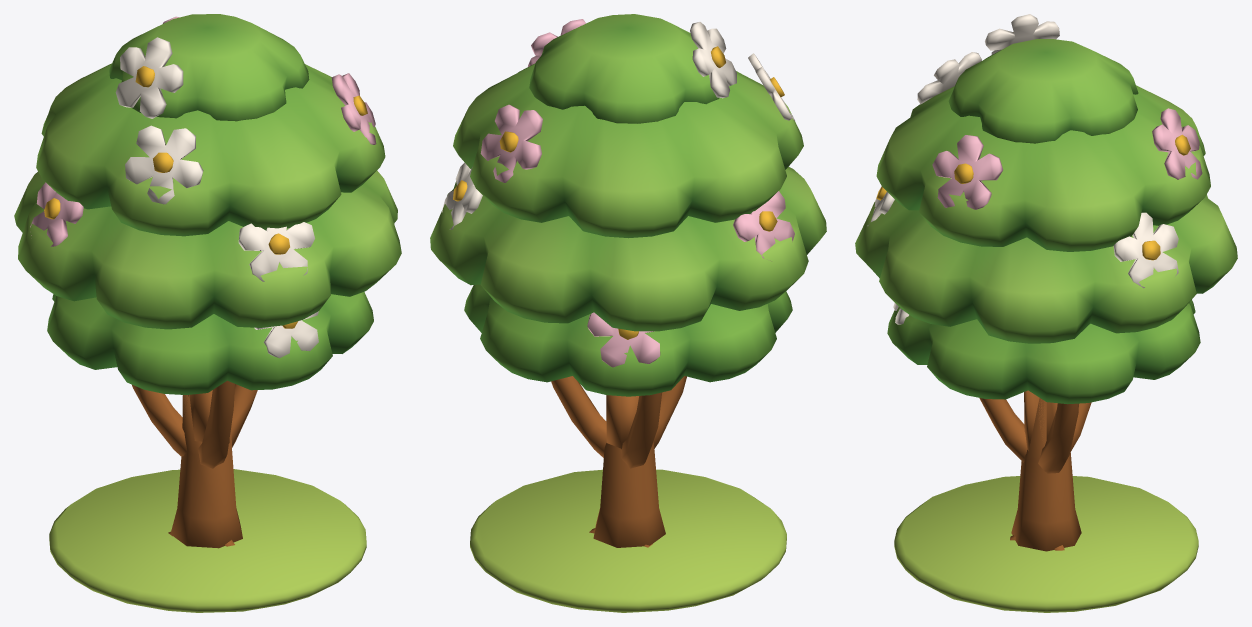
The model's file is bush-flowering.glb.
The picture shows the model from 3 angles, left to right: view 1: azimuth 30°, elevation 25°; view 2: azimuth 150°, elevation 25°; view 3: azimuth 270°, elevation 25°; orthographic projection. The views are drawn at different scales.
Visible parts, largest first — view 1: body, base_disc; view 2: body, base_disc; view 3: body, base_disc.
Part boxes in pixels (x1=…): body: x1=14, y1=14, x2=401, y2=548; base_disc: x1=49, y1=469, x2=366, y2=612; body: x1=430, y1=14, x2=826, y2=547; base_disc: x1=470, y1=469, x2=786, y2=612; body: x1=855, y1=14, x2=1237, y2=551; base_disc: x1=894, y1=476, x2=1198, y2=612.
Bounding box in the file's own units: 1.06 × 1.55 × 1.06.
